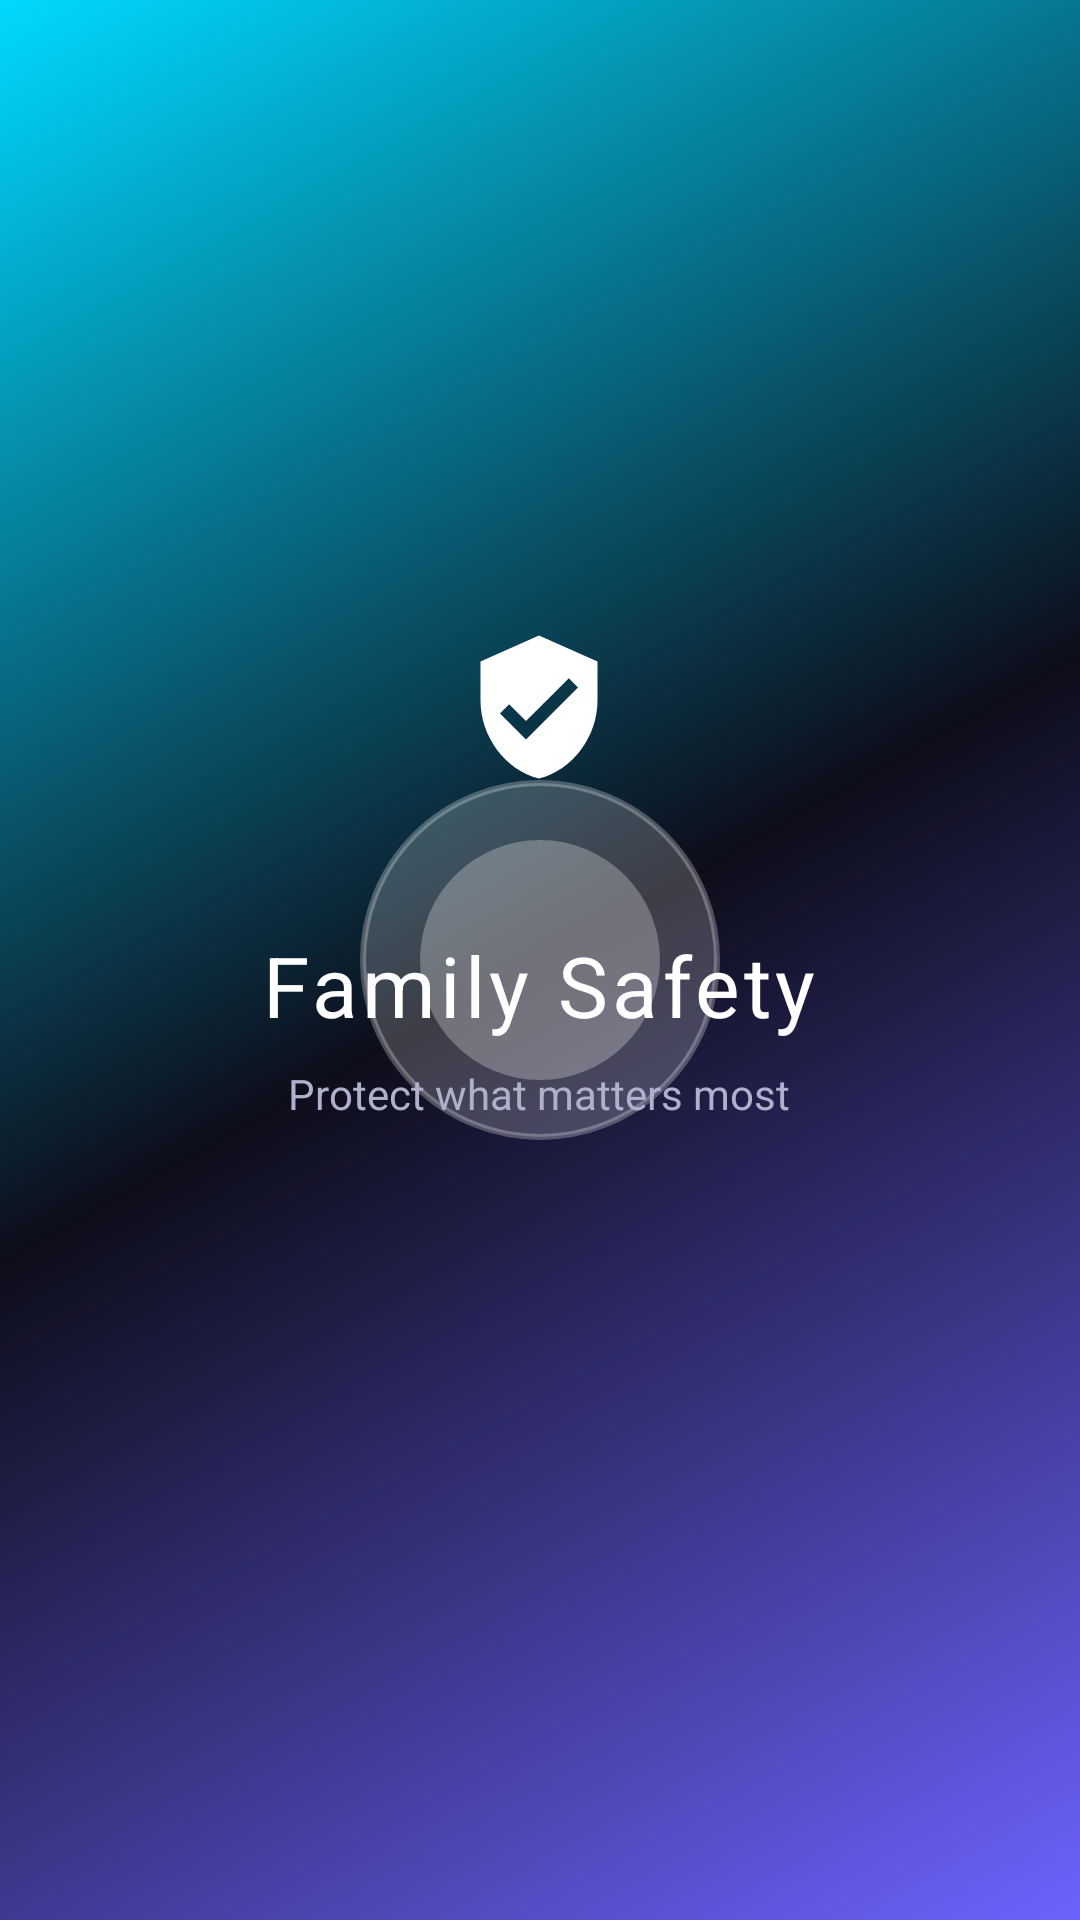

Named icons in this screenshot (1080px×1920px) and their bounding boxes, (x1, y1, x2, y2):
Shield: (480, 635, 598, 779)
